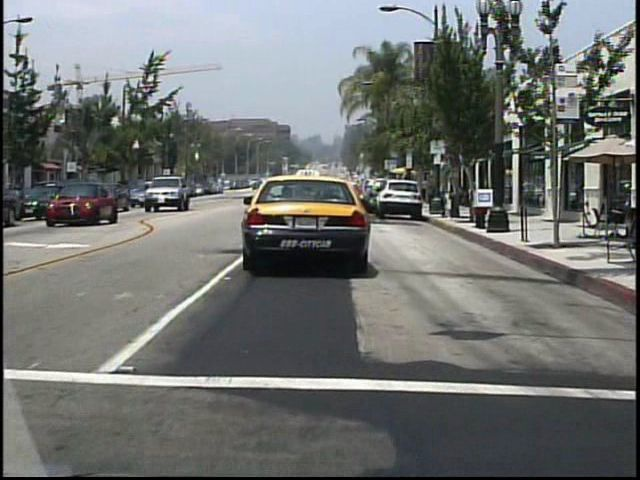person: (419, 175, 430, 201)
